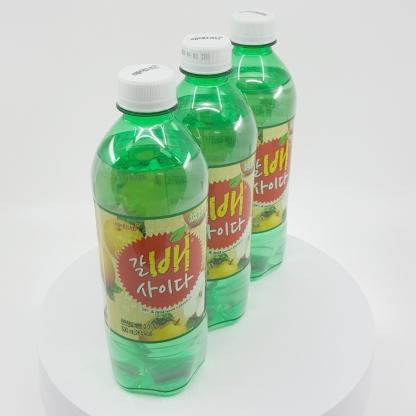-------500ML: (90, 64, 208, 395), (148, 33, 257, 330)
